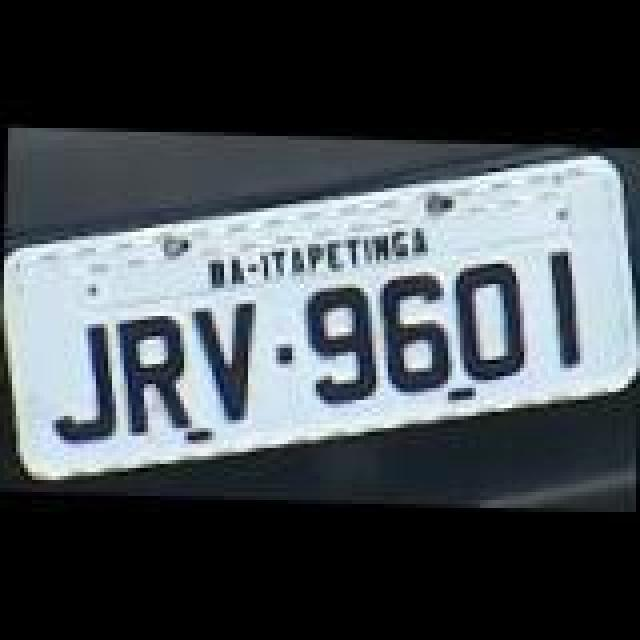1: (544, 242, 592, 366)
6: (372, 272, 460, 400)
9: (294, 282, 378, 406)
J: (46, 320, 130, 448)
O: (448, 258, 528, 382)
R: (112, 308, 192, 436)
V: (188, 290, 260, 430)
